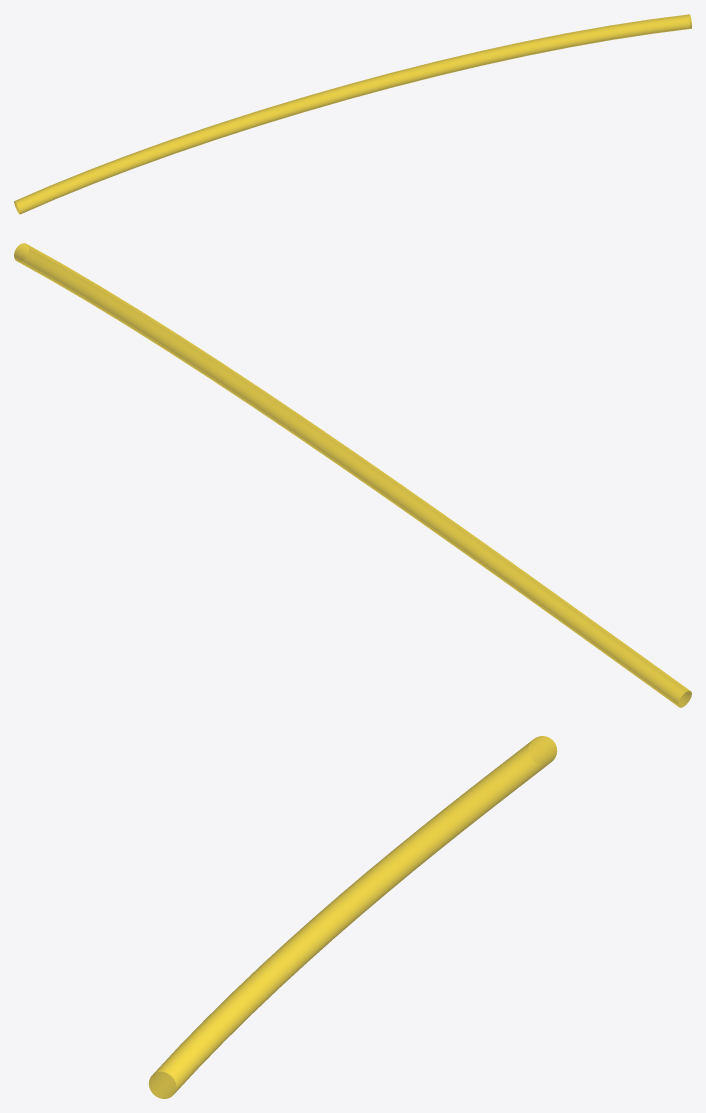
The model's file is Event_15818458_track_67.fbx.
3 views of the same model, one above another, from view 1: azimuth 30°, elevation 25°; view 2: azimuth 150°, elevation 25°; view 3: azimuth 270°, elevation 25° (orthographic). The views are drawn at different scales.
Visible parts, largest first — view 1: Model; view 2: Model; view 3: Model.
Part boxes in pixels (x1,y1,x2,y2): Model: (14,14,691,214); Model: (14,243,691,707); Model: (148,736,557,1098).
Size of the model in its own units: 1.84 by 0.3853 by 0.5582.
